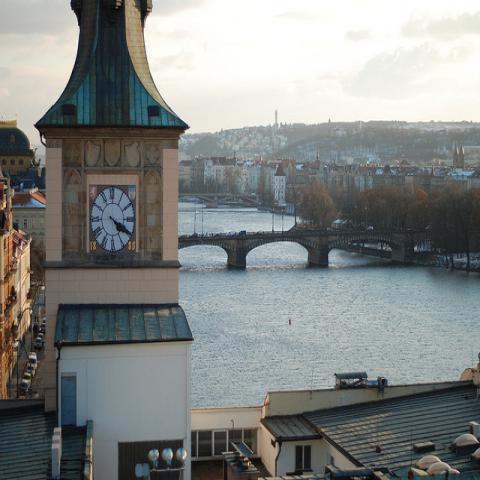car: (20, 380, 30, 395), (27, 355, 37, 368), (21, 373, 31, 385), (37, 332, 45, 344), (26, 365, 34, 377), (34, 338, 42, 349), (225, 231, 235, 237), (40, 324, 46, 332), (214, 233, 220, 236), (43, 317, 46, 323)
